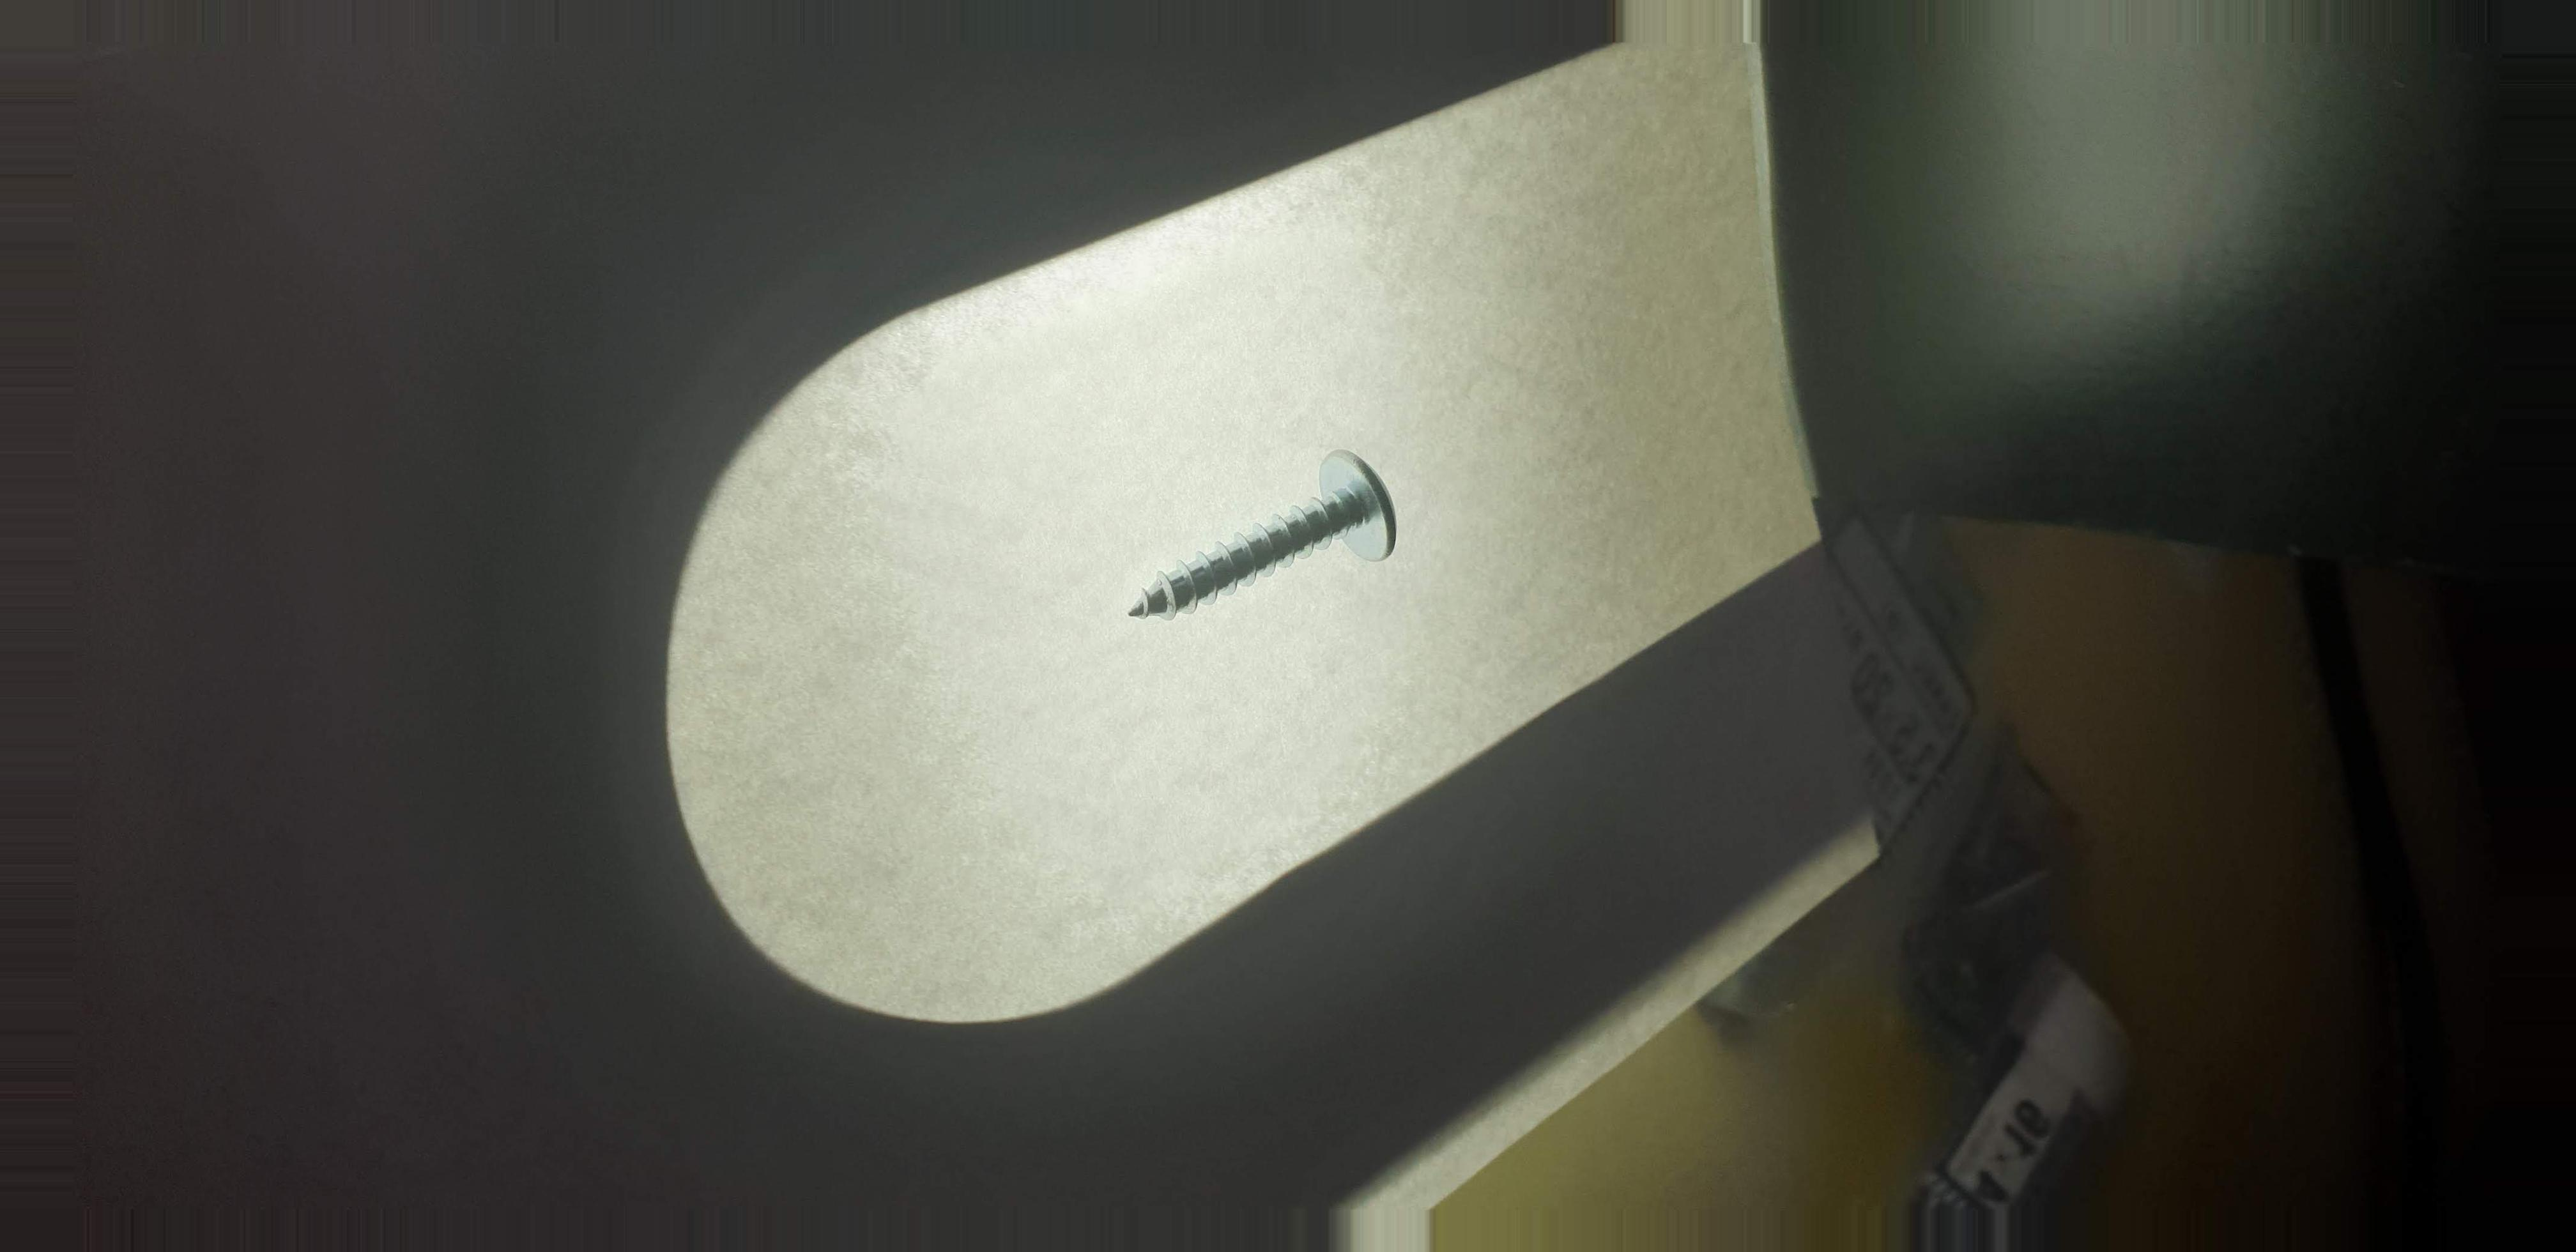S002: (1084, 422, 1434, 656)
